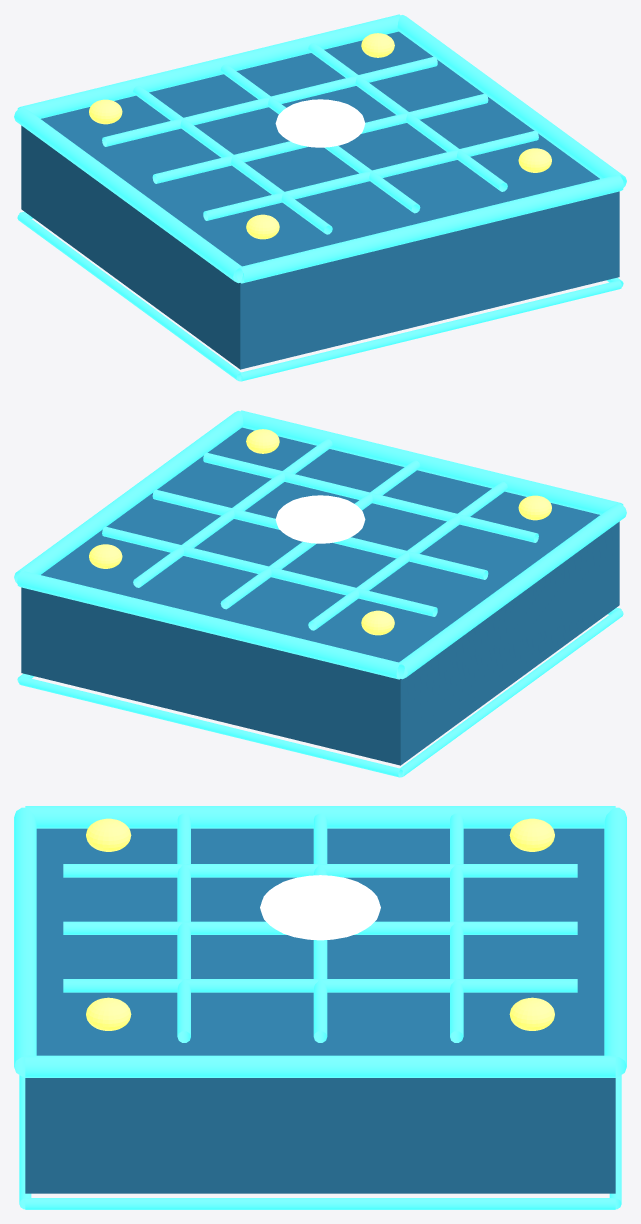
The model's file is grid_splitter.glb.
The picture shows the model from 3 angles, top to bottom: view 1: azimuth 30°, elevation 25°; view 2: azimuth 150°, elevation 25°; view 3: azimuth 270°, elevation 25°; orthographic projection. The views are drawn at different scales.
Visible parts, largest first — view 1: GridSplitterSquareDarkBody, GridSplitterTopFrame_edge_0, GridSplitterTopFrame_edge_2, GridSplitterTopFrame_edge_3, GridSplitterTopFrame_edge_1, GridSplitterLowerFrame_edge_0, GridSplitterWhiteCore, GridSplitterHorizontalCircuit_-0.36, GridSplitterHorizontalCircuit_0.36, GridSplitterHorizontalCircuit_0.0, GridSplitterLowerFrame_edge_3, GridSplitterVerticalCircuit_-0.36 (+6 smaller); view 2: GridSplitterSquareDarkBody, GridSplitterTopFrame_edge_2, GridSplitterTopFrame_edge_0, GridSplitterTopFrame_edge_3, GridSplitterTopFrame_edge_1, GridSplitterLowerFrame_edge_2, GridSplitterWhiteCore, GridSplitterHorizontalCircuit_-0.36, GridSplitterHorizontalCircuit_0.36, GridSplitterHorizontalCircuit_0.0, GridSplitterLowerFrame_edge_3, GridSplitterVerticalCircuit_-0.36 (+6 smaller); view 3: GridSplitterSquareDarkBody, GridSplitterTopFrame_edge_1, GridSplitterTopFrame_edge_3, GridSplitterLowerFrame_edge_1, GridSplitterVerticalCircuit_0.36, GridSplitterVerticalCircuit_-0.36, GridSplitterWhiteCore, GridSplitterTopFrame_edge_0, GridSplitterTopFrame_edge_2, GridSplitterVerticalCircuit_0.0, GridSplitterHorizontalCircuit_-0.36, GridSplitterHorizontalCircuit_0.36 (+7 smaller).
Part boxes in pixels (x1,y1,x2,y2): GridSplitterSquareDarkBody: (21,31,619,369); GridSplitterTopFrame_edge_0: (236,175,623,283); GridSplitterTopFrame_edge_2: (17,14,399,118); GridSplitterTopFrame_edge_3: (14,107,244,283); GridSplitterTopFrame_edge_1: (397,15,626,187); GridSplitterLowerFrame_edge_0: (238,280,621,381); GridSplitterWhiteCore: (275,99,365,147); GridSplitterHorizontalCircuit_-0.36: (203,130,538,220); GridSplitterHorizontalCircuit_0.36: (102,56,437,146); GridSplitterHorizontalCircuit_0.0: (152,93,488,183); GridSplitterLowerFrame_edge_3: (17,213,242,381); GridSplitterVerticalCircuit_-0.36: (133,85,332,234); GridSplitterSquareDarkBody: (21,427,619,765); GridSplitterTopFrame_edge_2: (17,571,404,679); GridSplitterTopFrame_edge_0: (240,410,623,514); GridSplitterTopFrame_edge_3: (396,503,626,679); GridSplitterTopFrame_edge_1: (14,411,243,583); GridSplitterLowerFrame_edge_2: (19,676,402,777); GridSplitterWhiteCore: (275,495,365,543); GridSplitterHorizontalCircuit_-0.36: (203,452,538,542); GridSplitterHorizontalCircuit_0.36: (102,526,437,616); GridSplitterHorizontalCircuit_0.0: (152,489,488,579); GridSplitterLowerFrame_edge_3: (398,609,623,777); GridSplitterVerticalCircuit_-0.36: (308,481,507,630); GridSplitterSquareDarkBody: (25,828,615,1193); GridSplitterTopFrame_edge_1: (25,1055,615,1077); GridSplitterTopFrame_edge_3: (25,806,615,828); GridSplitterLowerFrame_edge_1: (25,1198,615,1209); GridSplitterVerticalCircuit_0.36: (63,979,577,992); GridSplitterVerticalCircuit_-0.36: (63,864,577,877); GridSplitterWhiteCore: (260,875,380,940); GridSplitterTopFrame_edge_0: (14,807,36,1076); GridSplitterTopFrame_edge_2: (604,807,626,1076); GridSplitterVerticalCircuit_0.0: (63,921,577,934); GridSplitterHorizontalCircuit_-0.36: (177,813,190,1042); GridSplitterHorizontalCircuit_0.36: (450,813,463,1042).
Size of the model in its own units: 1.62 by 0.5752 by 1.62.
